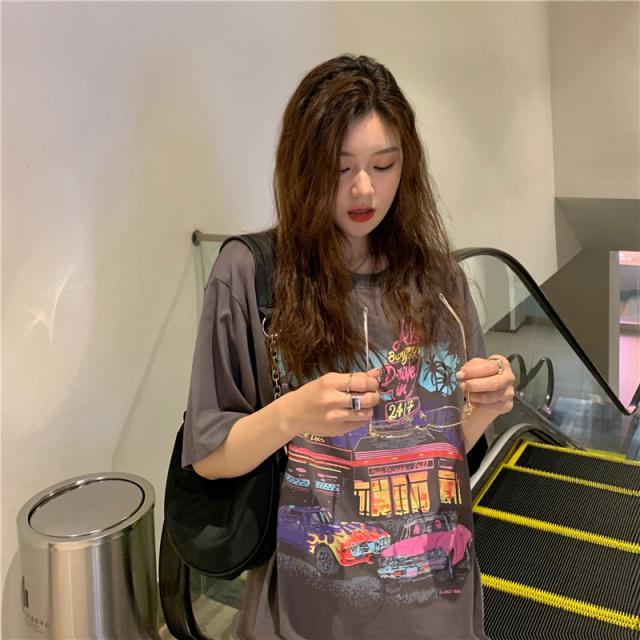Shirt: (180, 219, 490, 639)
